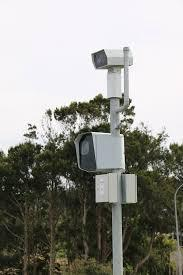Speed-Camera: (66, 41, 143, 174)
